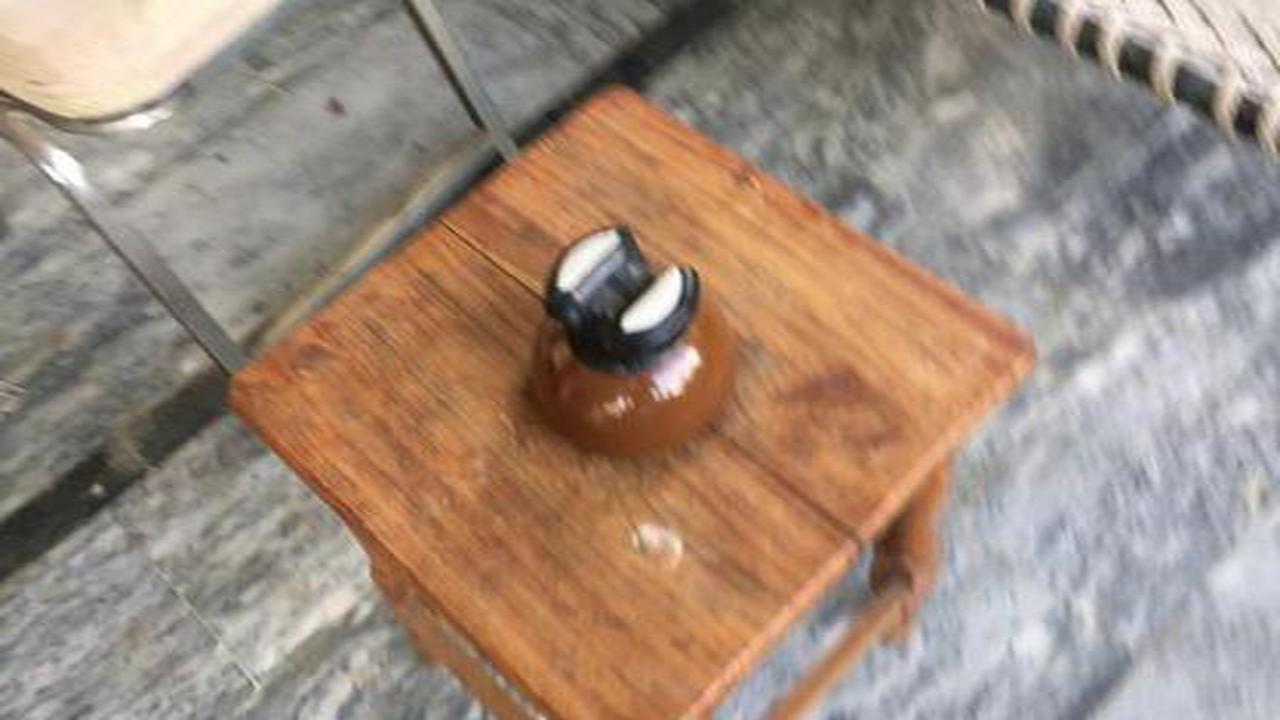insulator_pin: (499, 212, 773, 471)
